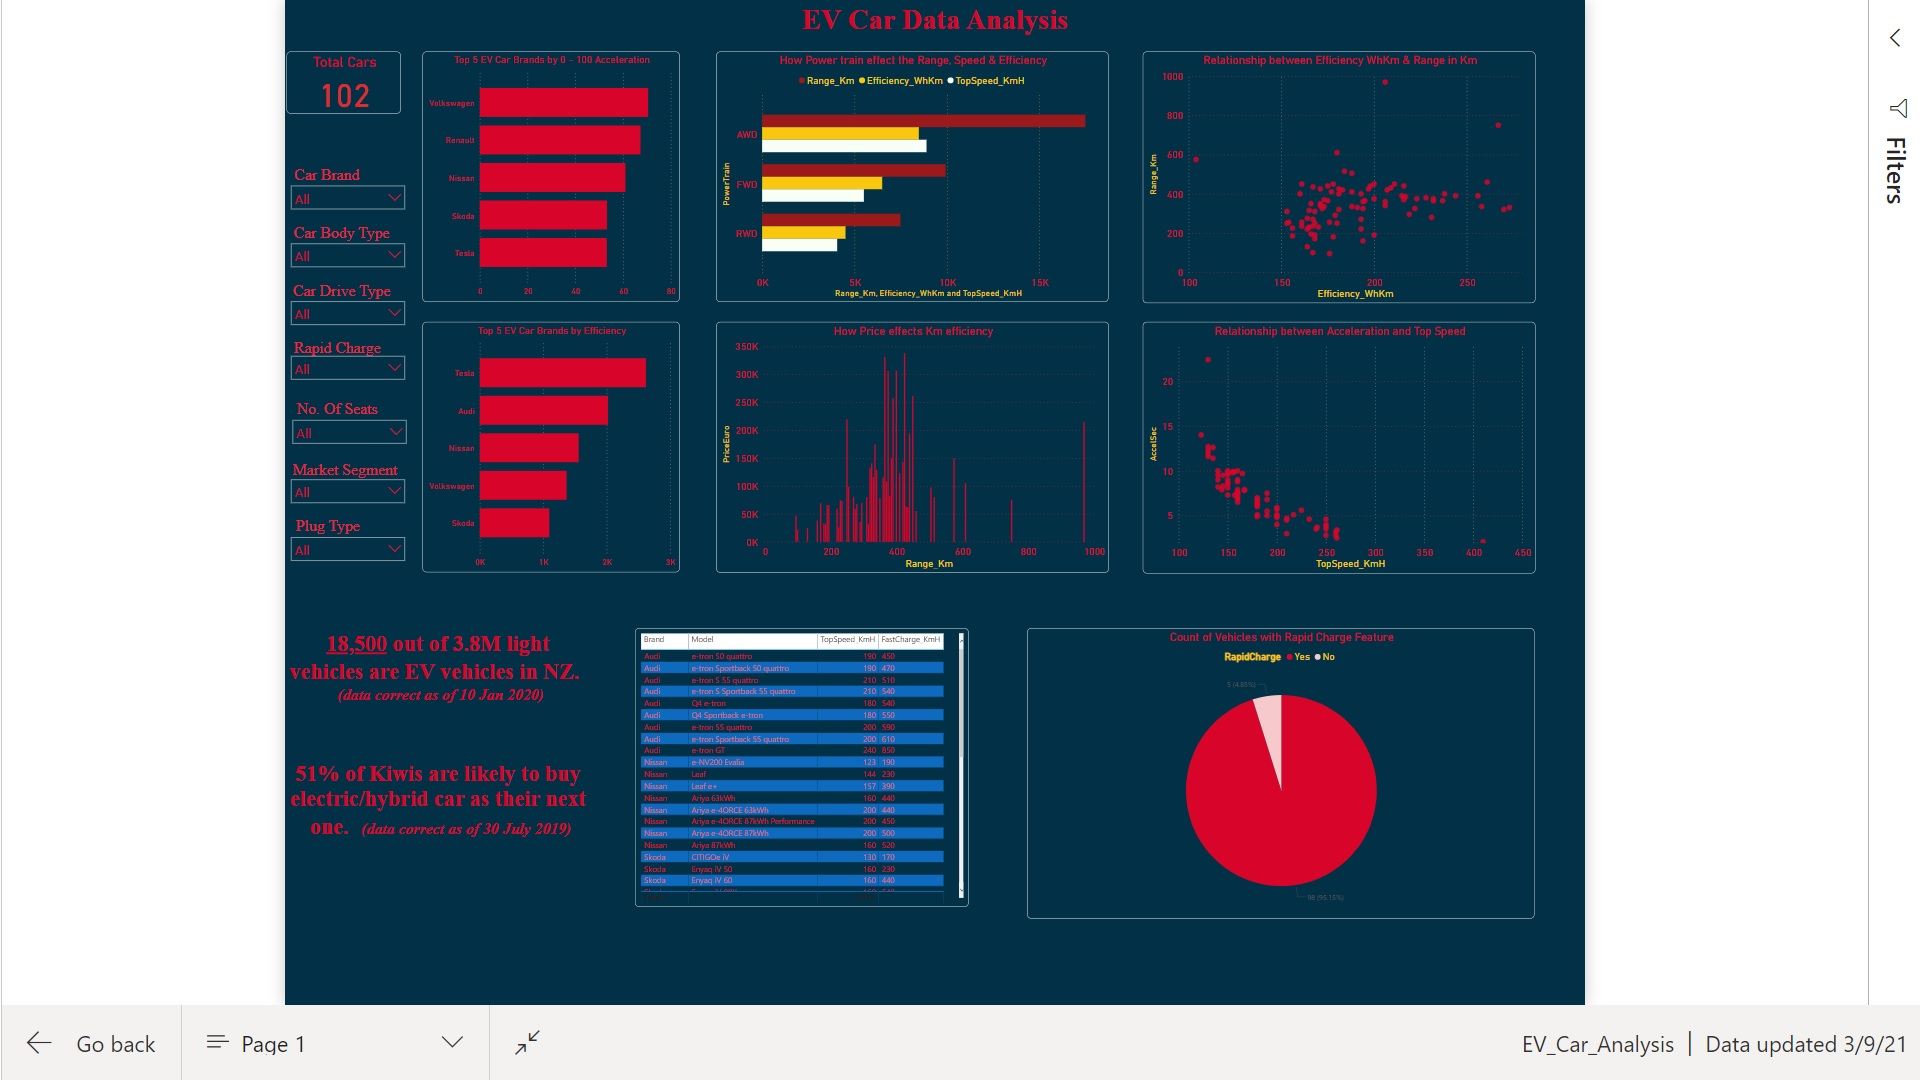

The page's visual inventory and layout, read from the dashboard file:
{"tool":"powerbi","page":{"name":"Page 1","canvas":[2200,1700],"ordinal":0},"visuals":[{"type":"slicer","fields":{"Values":["ElectricCarData_Clean.Brand"]},"box":[0,303.9,212.6,69.8],"z":0},{"type":"textbox","box":[830.2,0,539.4,67.8],"z":1000},{"type":"textbox","box":[0,275.6,141.2,56.5],"z":2000},{"type":"textbox","box":[0,569.6,176.1,56.5],"z":3000},{"type":"slicer","fields":{"Values":["ElectricCarData_Clean.RapidCharge"]},"box":[0,593.2,212.6,69.8],"z":4000},{"type":"slicer","fields":{"Values":["ElectricCarData_Clean.PowerTrain"]},"box":[0,499.9,212.6,69.8],"z":5000},{"type":"textbox","box":[0,471.6,191,56.5],"z":6000},{"type":"slicer","fields":{"Values":["ElectricCarData_Clean.BodyStyle"]},"box":[0,401.9,212.6,69.8],"z":7000},{"type":"textbox","box":[0,373.6,191,56.5],"z":8000},{"type":"textbox","box":[0,672.6,176.1,56.5],"z":9000},{"type":"slicer","fields":{"Values":["ElectricCarData_Clean.Seats"]},"box":[3.3,700.9,212.6,69.8],"z":10000},{"type":"slicer","fields":{"Values":["ElectricCarData_Clean.Segment"]},"box":[0,800.5,212.6,69.8],"z":11000},{"type":"textbox","box":[0,774,202.7,43.2],"z":12000},{"type":"slicer","fields":{"Values":["ElectricCarData_Clean.PlugType"]},"box":[0,898.5,212.6,69.8],"z":13000},{"type":"textbox","box":[0,870.3,144.5,56.5],"z":14000},{"type":"clusteredBarChart","title":"Top 5 EV Car Brands by 0 - 100 Acceleration","fields":{"Category":["ElectricCarData_Clean.Brand"],"Y":["Sum(ElectricCarData_Clean.AccelSec)"]},"box":[232.6,86.4,435.2,423.6],"z":15000},{"type":"barChart","title":"Top 5 EV Car Brands by Efficiency","fields":{"Category":["ElectricCarData_Clean.Brand"],"Y":["Sum(ElectricCarData_Clean.Efficiency_WhKm)"]},"box":[232.6,544.9,435.2,423.6],"z":16000},{"type":"clusteredBarChart","title":"How Power train effect the Range, Speed & Efficiency","fields":{"Category":["ElectricCarData_Clean.PowerTrain"],"Y":["Sum(ElectricCarData_Clean.Range_Km)","Sum(ElectricCarData_Clean.Efficiency_WhKm)","Sum(ElectricCarData_Clean.TopSpeed_KmH)"]},"box":[728.6,87.5,663.6,423.6],"z":17000},{"type":"columnChart","title":"How Price effects Km efficiency","fields":{"Category":["ElectricCarData_Clean.Range_Km"],"Y":["Sum(ElectricCarData_Clean.PriceEuro)"]},"box":[729.8,544.1,664.2,424],"z":18000},{"type":"card","title":"Total Cars","fields":{"Values":["Count(ElectricCarData_Clean.Model)"]},"box":[2.3,86.4,193.4,104.6],"z":19000},{"type":"scatterChart","title":"Relationship between Acceleration and Top Speed","fields":{"Y":["ElectricCarData_Clean.AccelSec"],"X":["ElectricCarData_Clean.TopSpeed_KmH"]},"box":[1451.3,543.7,664.2,425.4],"z":20000},{"type":"scatterChart","title":"Relationship between Efficiency WhKm & Range in Km","fields":{"Y":["ElectricCarData_Clean.Range_Km"],"X":["ElectricCarData_Clean.Efficiency_WhKm"]},"box":[1451.3,86.4,664.2,425.4],"z":21000},{"type":"pieChart","title":"Count of Vehicles with Rapid Charge Feature","fields":{"Category":["ElectricCarData_Clean.RapidCharge"],"Y":["CountNonNull(ElectricCarData_Clean.RapidCharge)"]},"box":[1256.6,1061.8,858.5,491.4],"z":22000},{"type":"textbox","box":[1.4,1062.5,520.8,164.6],"z":23000},{"type":"textbox","box":[1.4,1281.1,520.8,164.6],"z":24000},{"type":"tableEx","title":"Top 5 EV Car Brands by Efficiency","fields":{"Values":["ElectricCarData_Clean.Brand","ElectricCarData_Clean.Model","Sum(ElectricCarData_Clean.TopSpeed_KmH)","ElectricCarData_Clean.FastCharge_KmH"]},"box":[593,1061.8,564.8,471.6],"z":25000}]}

Visuals, with their boxes on the page's 2200x1700 design canvas (x1, y1, x2, y2). These are canvas units, not pixel positions in the 1920x1080 screenshot, which may show the page scaled, cropped or inside an application window:
slicer - ElectricCarData_Clean.Brand: (0,304,213,374)
textbox: (830,0,1370,68)
textbox: (0,276,141,332)
textbox: (0,570,176,626)
slicer - ElectricCarData_Clean.RapidCharge: (0,593,213,663)
slicer - ElectricCarData_Clean.PowerTrain: (0,500,213,570)
textbox: (0,472,191,528)
slicer - ElectricCarData_Clean.BodyStyle: (0,402,213,472)
textbox: (0,374,191,430)
textbox: (0,673,176,729)
slicer - ElectricCarData_Clean.Seats: (3,701,216,771)
slicer - ElectricCarData_Clean.Segment: (0,800,213,870)
textbox: (0,774,203,817)
slicer - ElectricCarData_Clean.PlugType: (0,898,213,968)
textbox: (0,870,144,927)
"Top 5 EV Car Brands by 0 - 100 Acceleration" clusteredBarChart: (233,86,668,510)
"Top 5 EV Car Brands by Efficiency" barChart: (233,545,668,968)
"How Power train effect the Range, Speed & Efficiency" clusteredBarChart: (729,88,1392,511)
"How Price effects Km efficiency" columnChart: (730,544,1394,968)
"Total Cars" card: (2,86,196,191)
"Relationship between Acceleration and Top Speed" scatterChart: (1451,544,2116,969)
"Relationship between Efficiency WhKm & Range in Km" scatterChart: (1451,86,2116,512)
"Count of Vehicles with Rapid Charge Feature" pieChart: (1257,1062,2115,1553)
textbox: (1,1062,522,1227)
textbox: (1,1281,522,1446)
"Top 5 EV Car Brands by Efficiency" tableEx: (593,1062,1158,1533)
